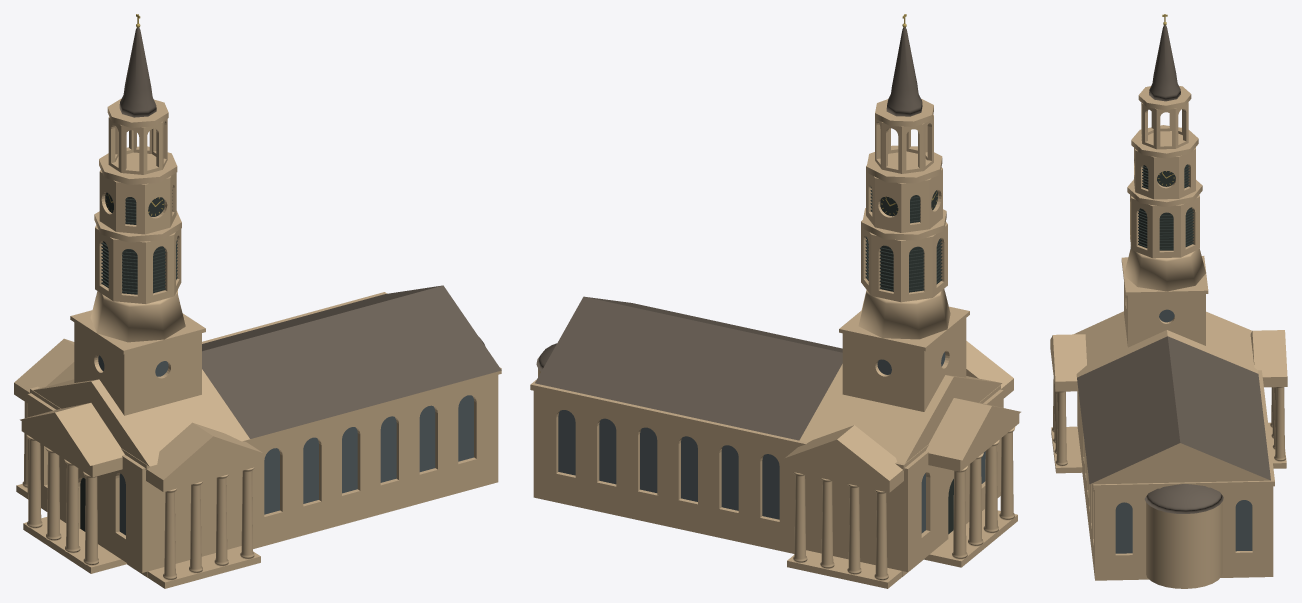
The model's file is st-philips-church-charleston-near.glb.
The picture shows the model from 3 angles, left to right: view 1: azimuth 30°, elevation 25°; view 2: azimuth 150°, elevation 25°; view 3: azimuth 270°, elevation 25°; orthographic projection. The views are drawn at different scales.
Parts seen in each view (by area): view 1: st-philips-church-charleston-0-plaster, st-philips-church-charleston-0-roof, st-philips-church-charleston-0-glass, st-philips-church-charleston-0-shadow; view 2: st-philips-church-charleston-0-plaster, st-philips-church-charleston-0-roof, st-philips-church-charleston-0-glass, st-philips-church-charleston-0-shadow; view 3: st-philips-church-charleston-0-plaster, st-philips-church-charleston-0-roof, st-philips-church-charleston-0-glass, st-philips-church-charleston-0-shadow.
Part boxes in pixels (<box>): st-philips-church-charleston-0-plaster: <box>14,98,501,588</box>; st-philips-church-charleston-0-roof: <box>119,27,501,438</box>; st-philips-church-charleston-0-glass: <box>98,355,473,535</box>; st-philips-church-charleston-0-shadow: <box>80,190,177,531</box>; st-philips-church-charleston-0-plaster: <box>530,98,1020,588</box>; st-philips-church-charleston-0-roof: <box>535,27,922,440</box>; st-philips-church-charleston-0-glass: <box>558,352,985,533</box>; st-philips-church-charleston-0-shadow: <box>865,187,953,534</box>; st-philips-church-charleston-0-plaster: <box>1050,86,1287,588</box>; st-philips-church-charleston-0-roof: <box>1077,25,1270,513</box>; st-philips-church-charleston-0-glass: <box>1115,309,1252,553</box>; st-philips-church-charleston-0-shadow: <box>1138,164,1193,250</box>.
Bounding box in the file's own units: 50.23 × 56 × 27.65.
